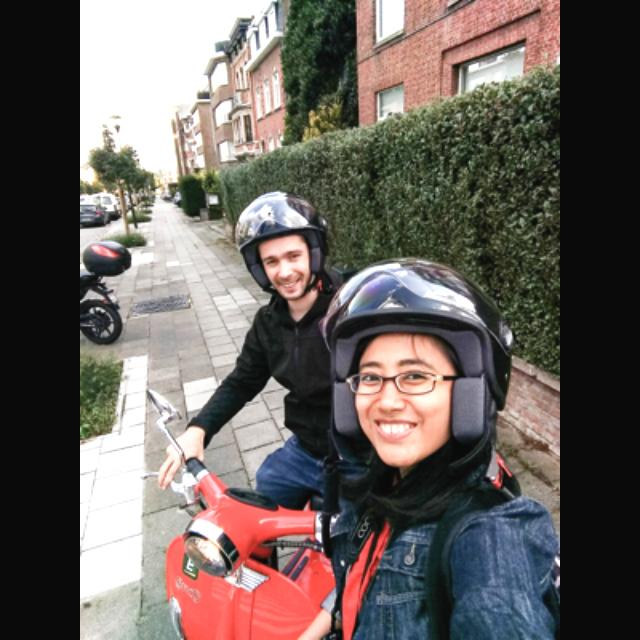With Helmet: (324, 256, 512, 468), (227, 185, 337, 308)
